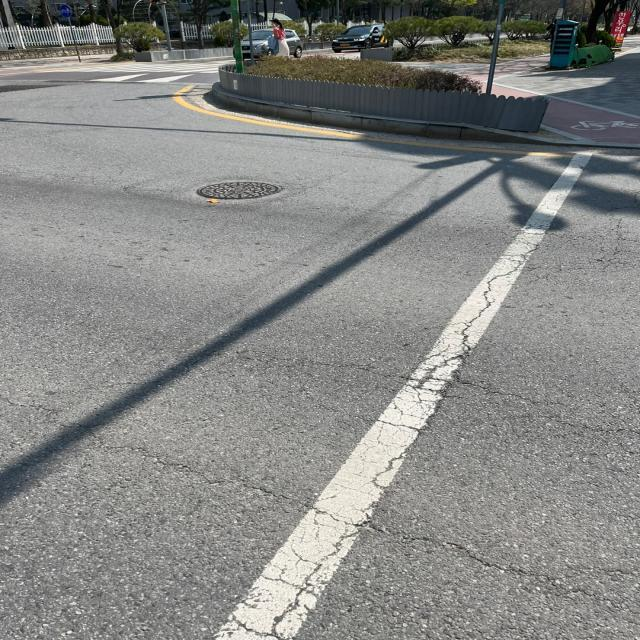Sewer Cover: (188, 172, 300, 220)
